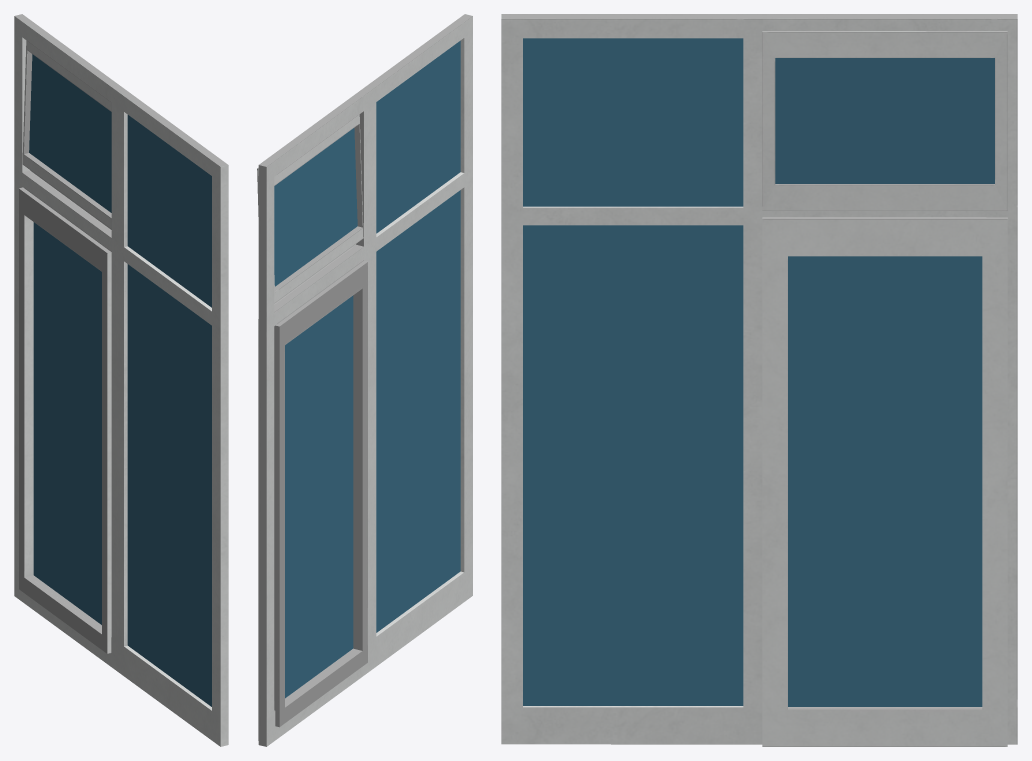
The picture shows the model from 3 angles, left to right: view 1: azimuth 30°, elevation 25°; view 2: azimuth 150°, elevation 25°; view 3: azimuth 270°, elevation 25°; orthographic projection. The views are drawn at different scales.
Parts seen in each view (by area): view 1: frameBody_low, glassLeftBottom_low, glassRightBottom_low, frameRightBottom_low, glassLeftTop_low, glassRightTop_low, frameRightTop_low; view 2: frameBody_low, glassLeftBottom_low, glassRightBottom_low, frameRightBottom_low, glassLeftTop_low, glassRightTop_low, frameRightTop_low; view 3: glassLeftBottom_low, glassRightBottom_low, frameBody_low, frameRightBottom_low, glassLeftTop_low, glassRightTop_low, frameRightTop_low.
Part boxes in pixels (x1=…): frameBody_low: x1=14, y1=14, x2=228, y2=746; glassLeftBottom_low: x1=127, y1=264, x2=211, y2=706; glassRightBottom_low: x1=33, y1=222, x2=101, y2=624; frameRightBottom_low: x1=19, y1=187, x2=111, y2=653; glassLeftTop_low: x1=127, y1=115, x2=211, y2=307; glassRightTop_low: x1=29, y1=54, x2=111, y2=212; frameRightTop_low: x1=22, y1=40, x2=111, y2=229; frameBody_low: x1=258, y1=14, x2=472, y2=746; glassLeftBottom_low: x1=376, y1=190, x2=460, y2=632; glassRightBottom_low: x1=285, y1=295, x2=353, y2=698; frameRightBottom_low: x1=258, y1=261, x2=367, y2=740; glassLeftTop_low: x1=376, y1=40, x2=460, y2=233; glassRightTop_low: x1=274, y1=128, x2=357, y2=286; frameRightTop_low: x1=257, y1=114, x2=363, y2=303; glassLeftBottom_low: x1=523, y1=225, x2=743, y2=705; glassRightBottom_low: x1=788, y1=256, x2=982, y2=706; frameBody_low: x1=501, y1=14, x2=1017, y2=744; frameRightBottom_low: x1=762, y1=217, x2=1007, y2=746; glassLeftTop_low: x1=523, y1=38, x2=743, y2=206; glassRightTop_low: x1=775, y1=58, x2=994, y2=183; frameRightTop_low: x1=762, y1=31, x2=1007, y2=210.
Size of the model in its own units: 0.0636 by 2 by 1.29.
2 materials, 2 textured.
